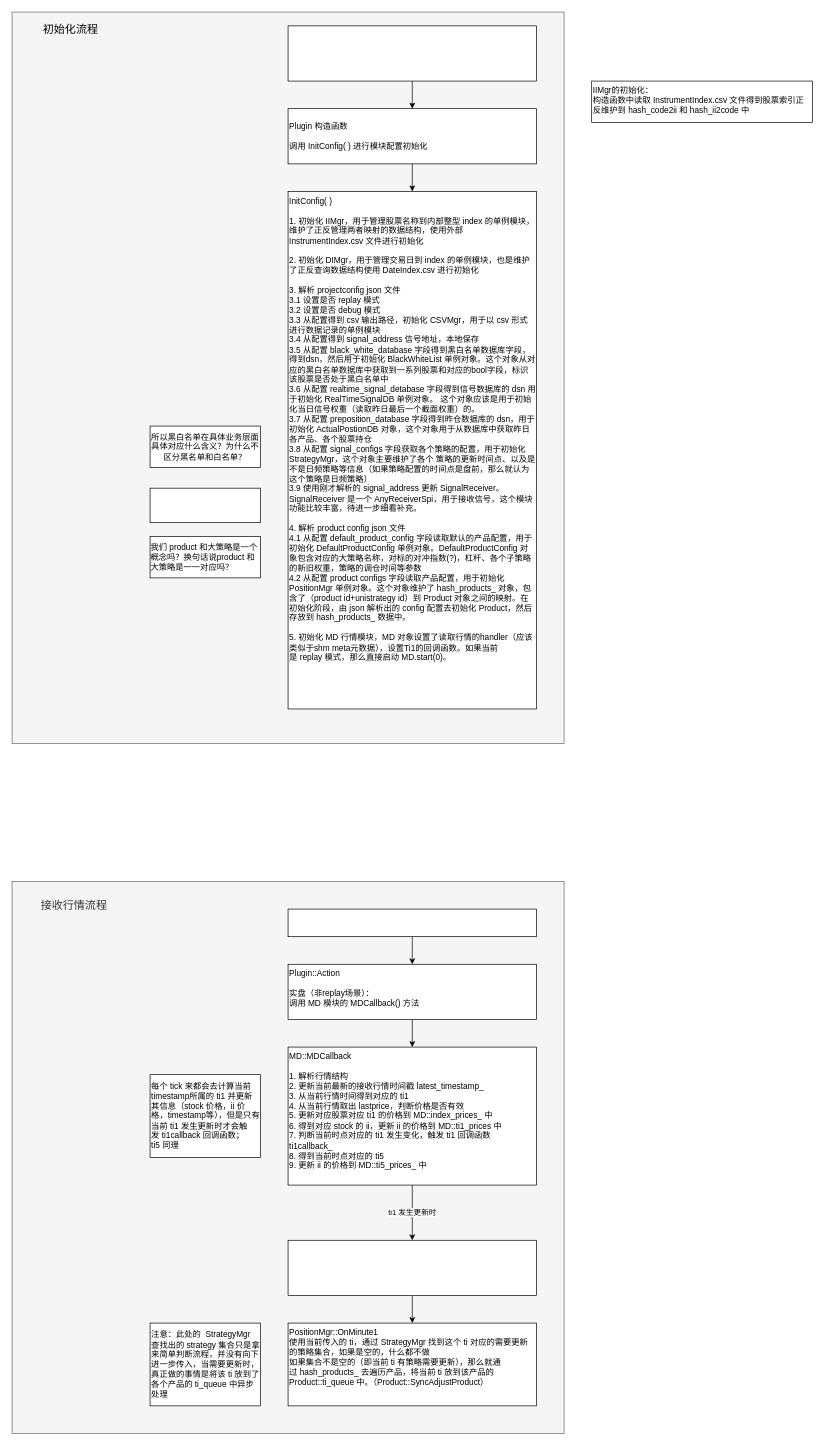
Some shapes in this 825 by 1446 pixel diagram are drawn without their labels. Each missing label, with the box of its shape:
on_minute1 调用 PositionMgr::OnMinute1 触发仓位模块的1分钟回调函数: (287, 1240, 536, 1295)
signal_address 待细看: (149, 487, 260, 523)
外部框架：create_plugin.h 创建 Plugin 对象: (287, 25, 536, 81)
收到行情: (287, 908, 536, 937)
